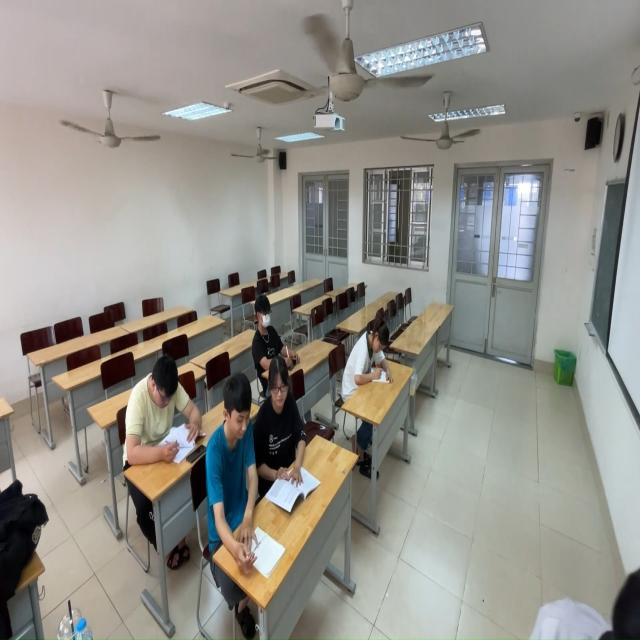read: (209, 354, 283, 554), (114, 343, 199, 472), (259, 355, 323, 491), (340, 316, 400, 403), (248, 295, 301, 374)
